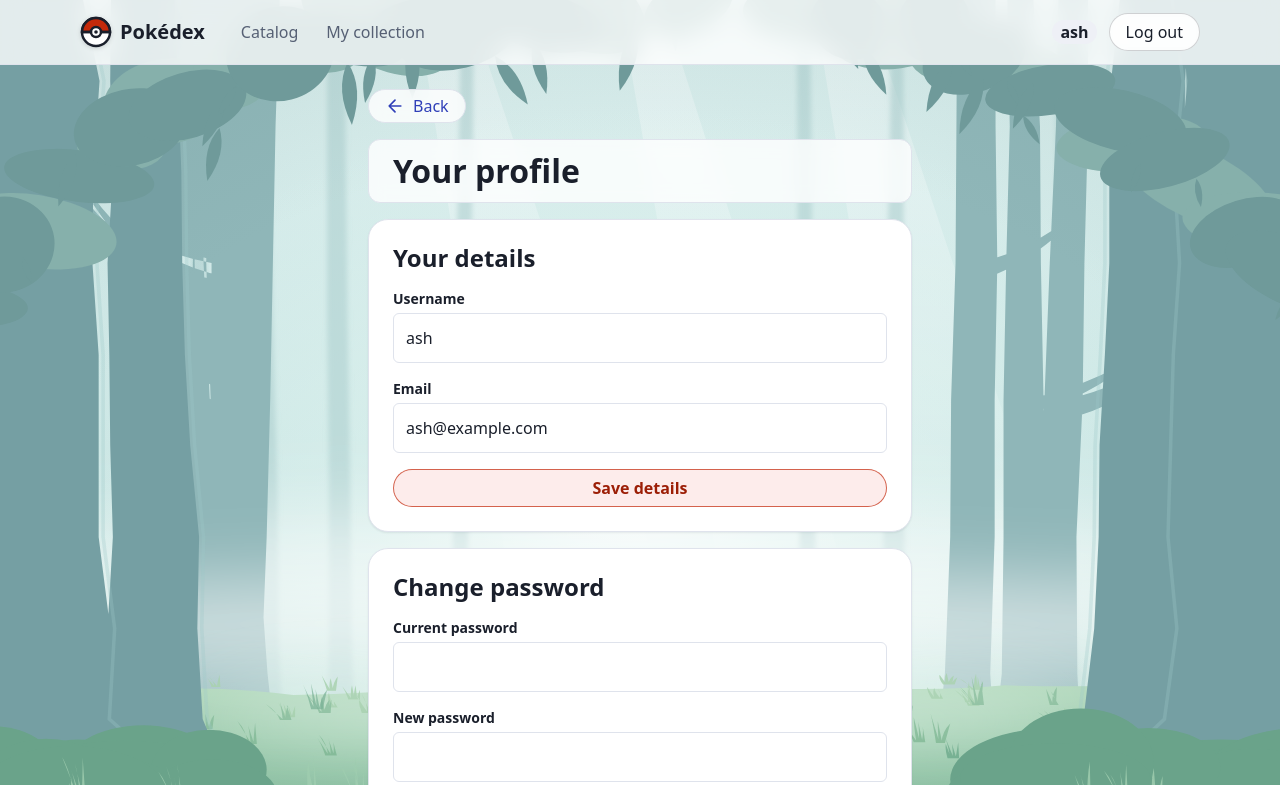
it: ProfilePage › your details › ends the session on a 401 like everywhere else
Type "x" into the field labelled "Username".
click(640, 338); type("x")  # box [393,313,887,363]
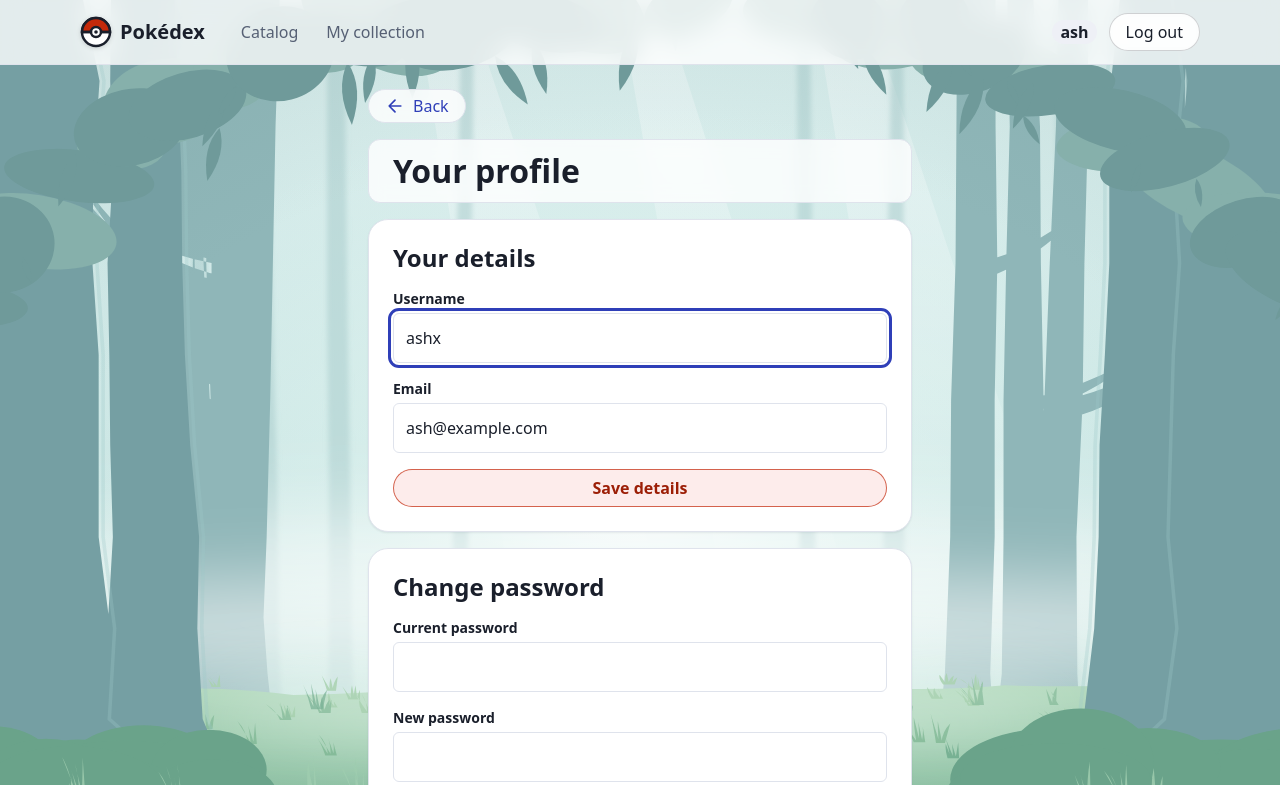
Click the button "Save details".
click(640, 488)  # box [393,469,887,507]
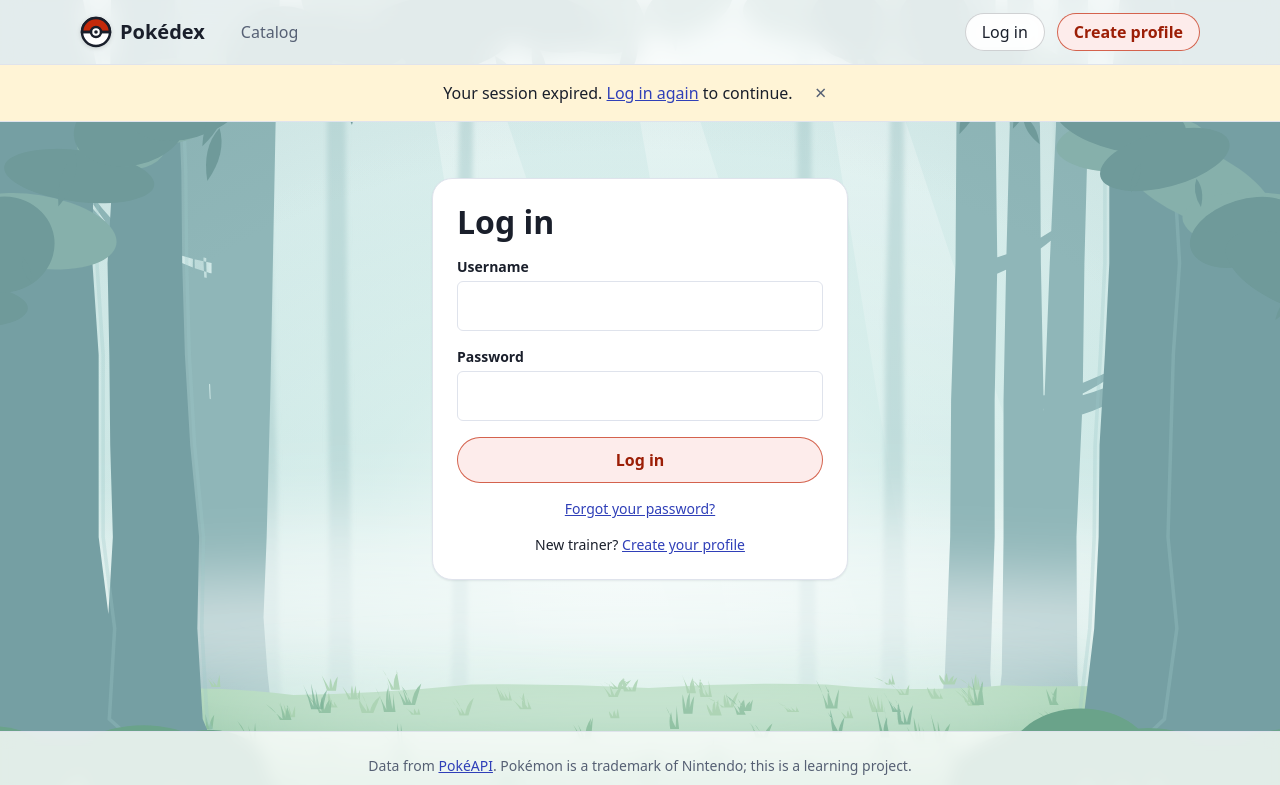
expect the heading "Log in" is shown: met, box [457,200,554,243]
